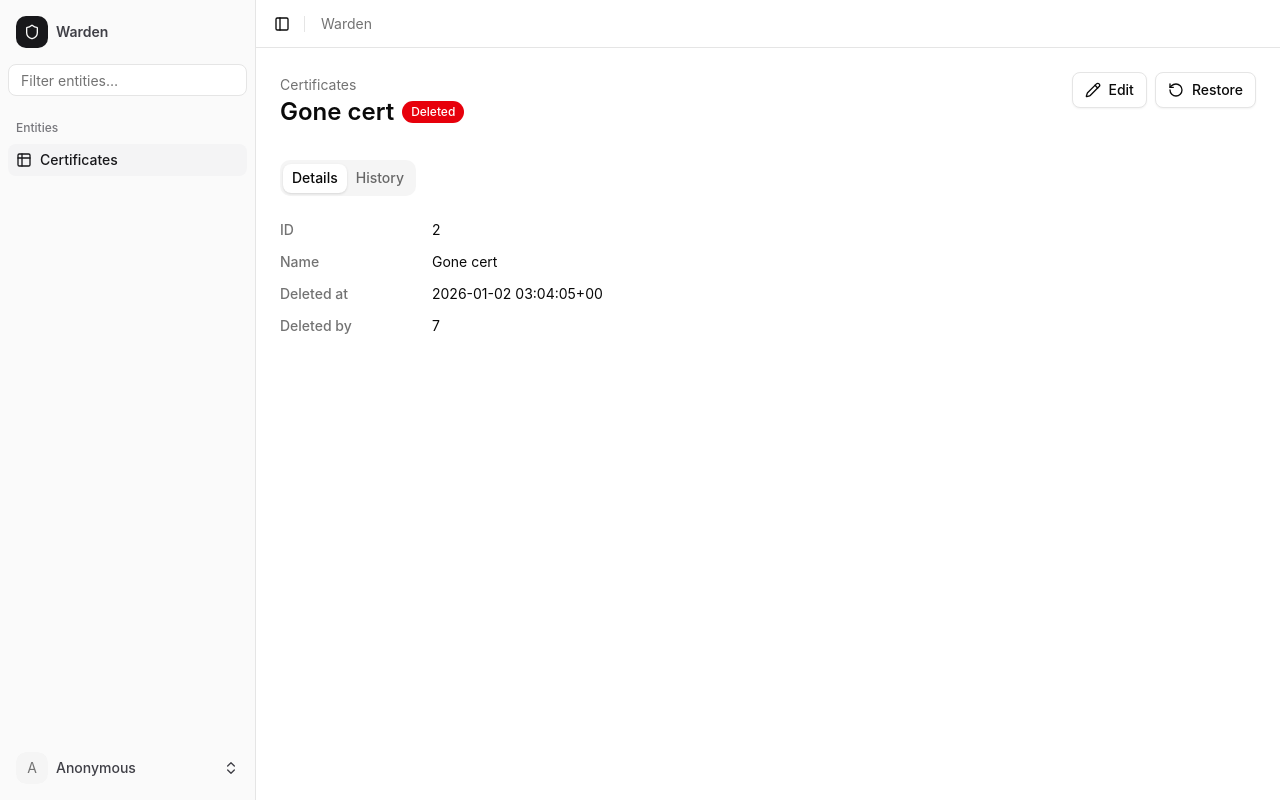
Test: record page of a soft-deleting entity › shows why a restore failed
The image size is (1280, 800).
Click the button "Restore": click(1205, 90) [1155, 72, 1256, 108]
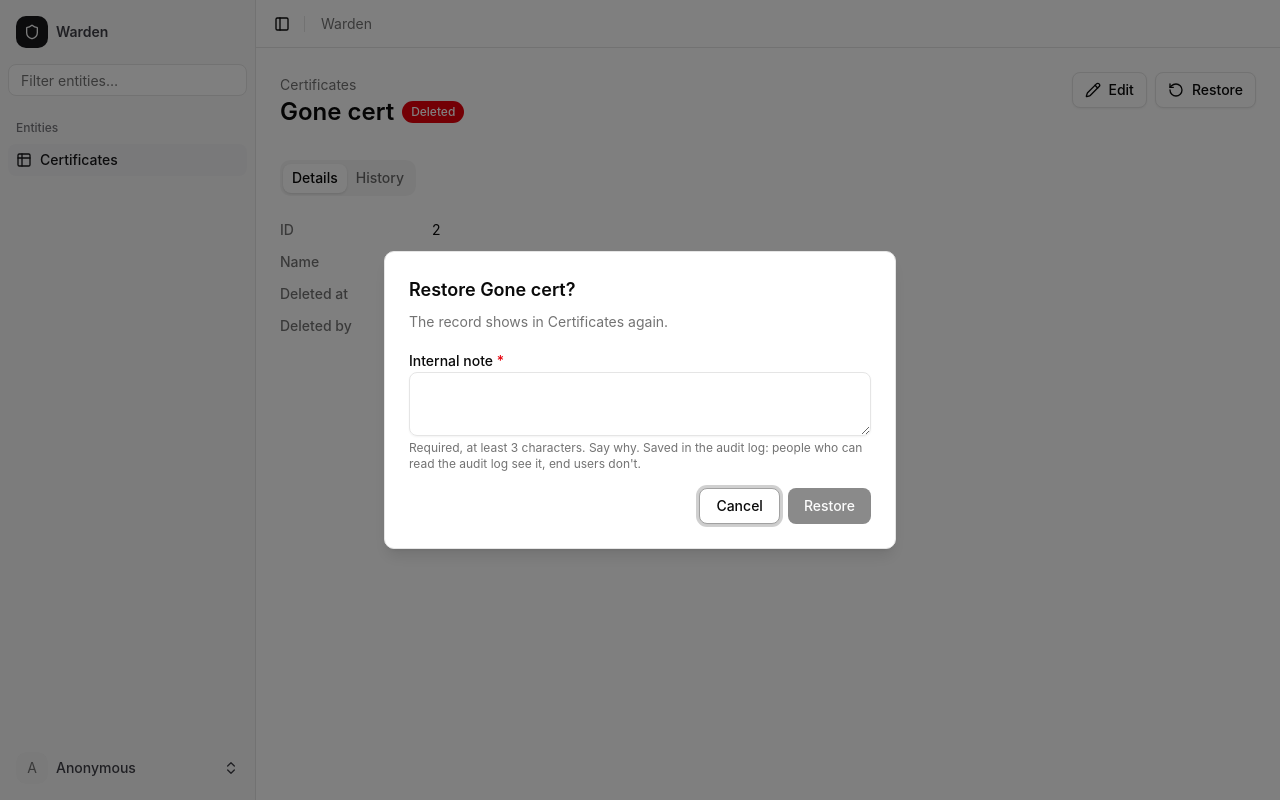
In the text box: (640, 404) [409, 372, 871, 436], type "issued by mistake"
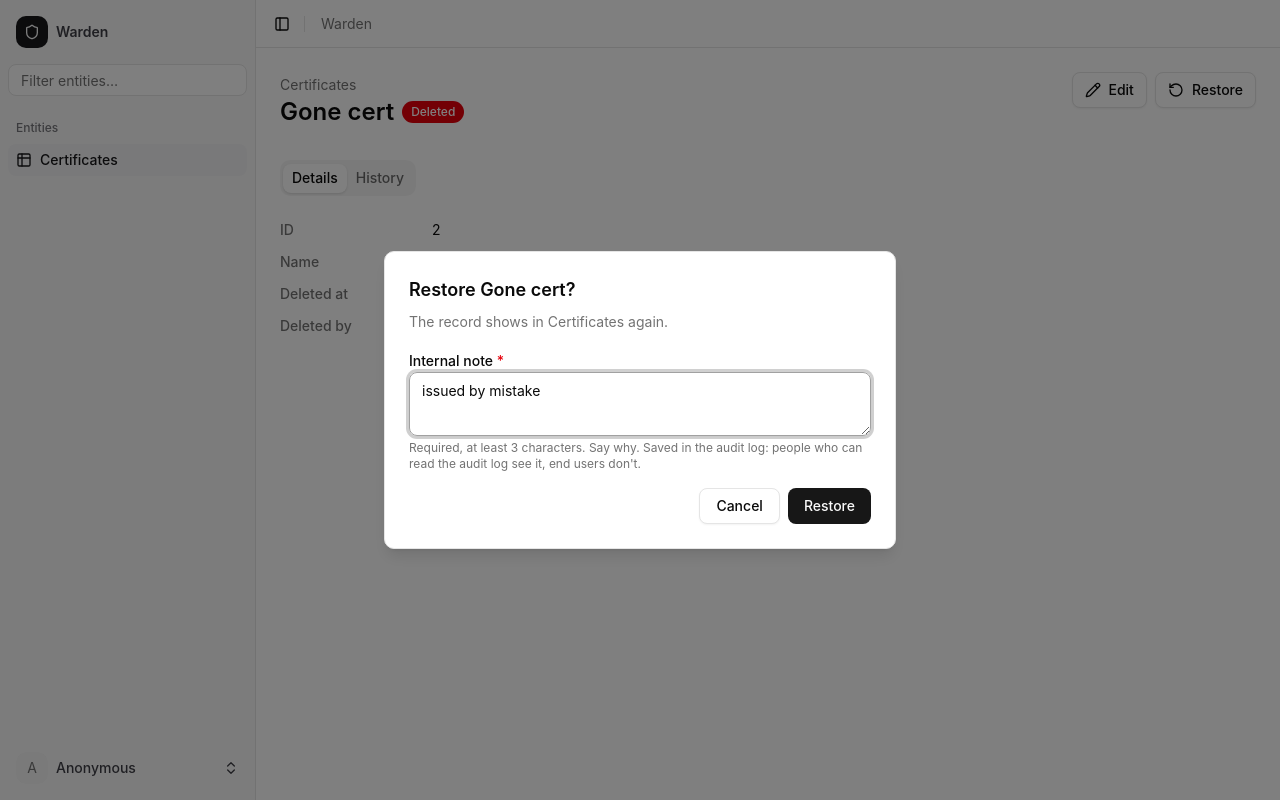
Click the button "Restore": click(829, 506) [788, 488, 871, 524]
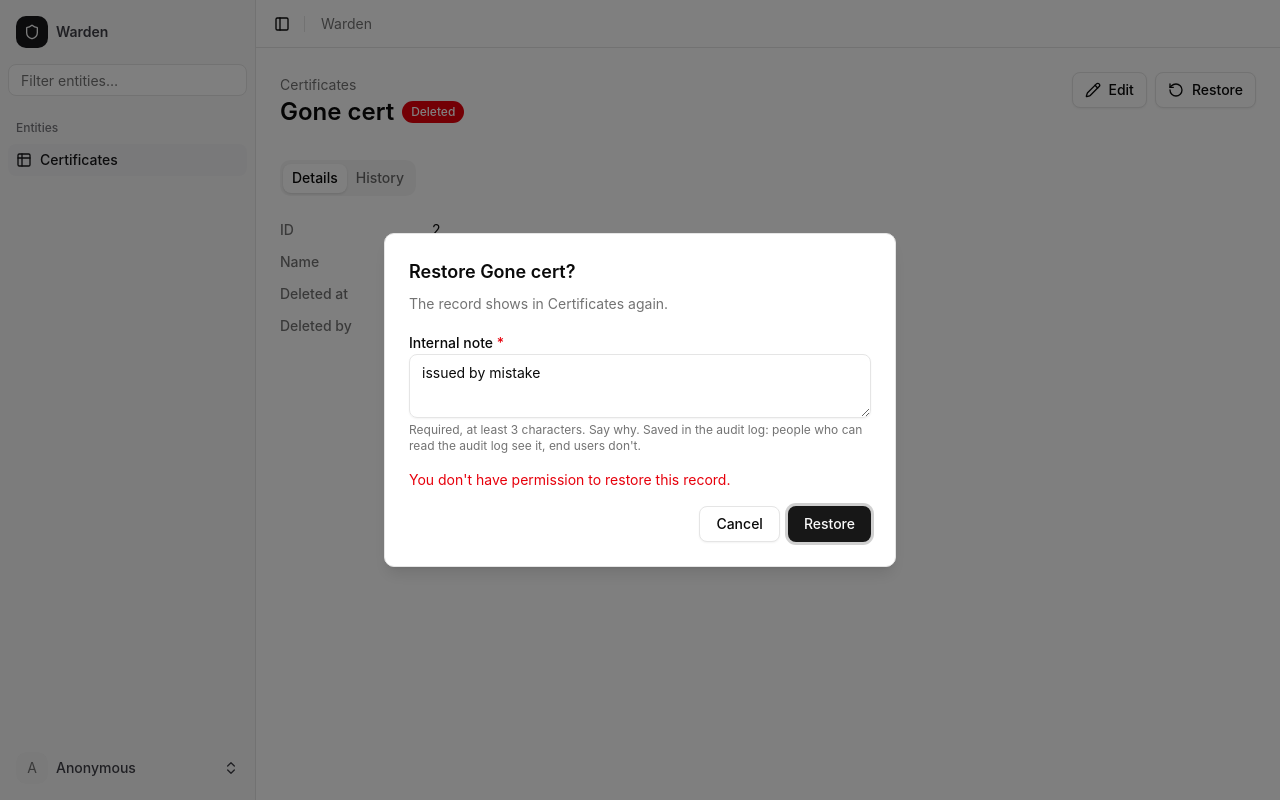
Now the message reads "You don't have permission to restore this record.", box [409, 471, 730, 488]
